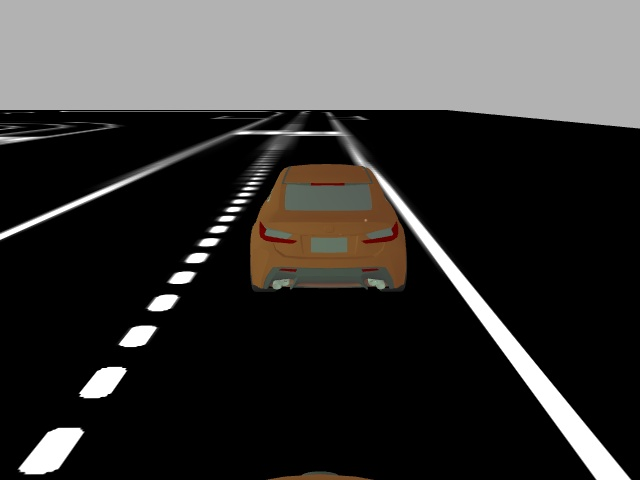obstacle_car: (248, 162, 408, 293)
